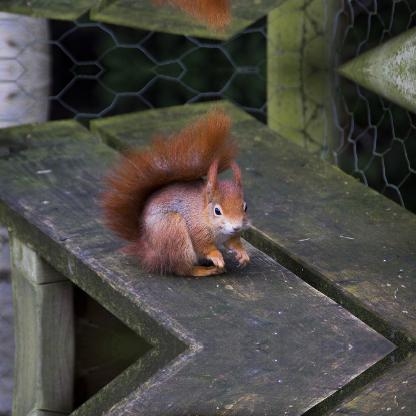Squirrel: (93, 105, 263, 293)
